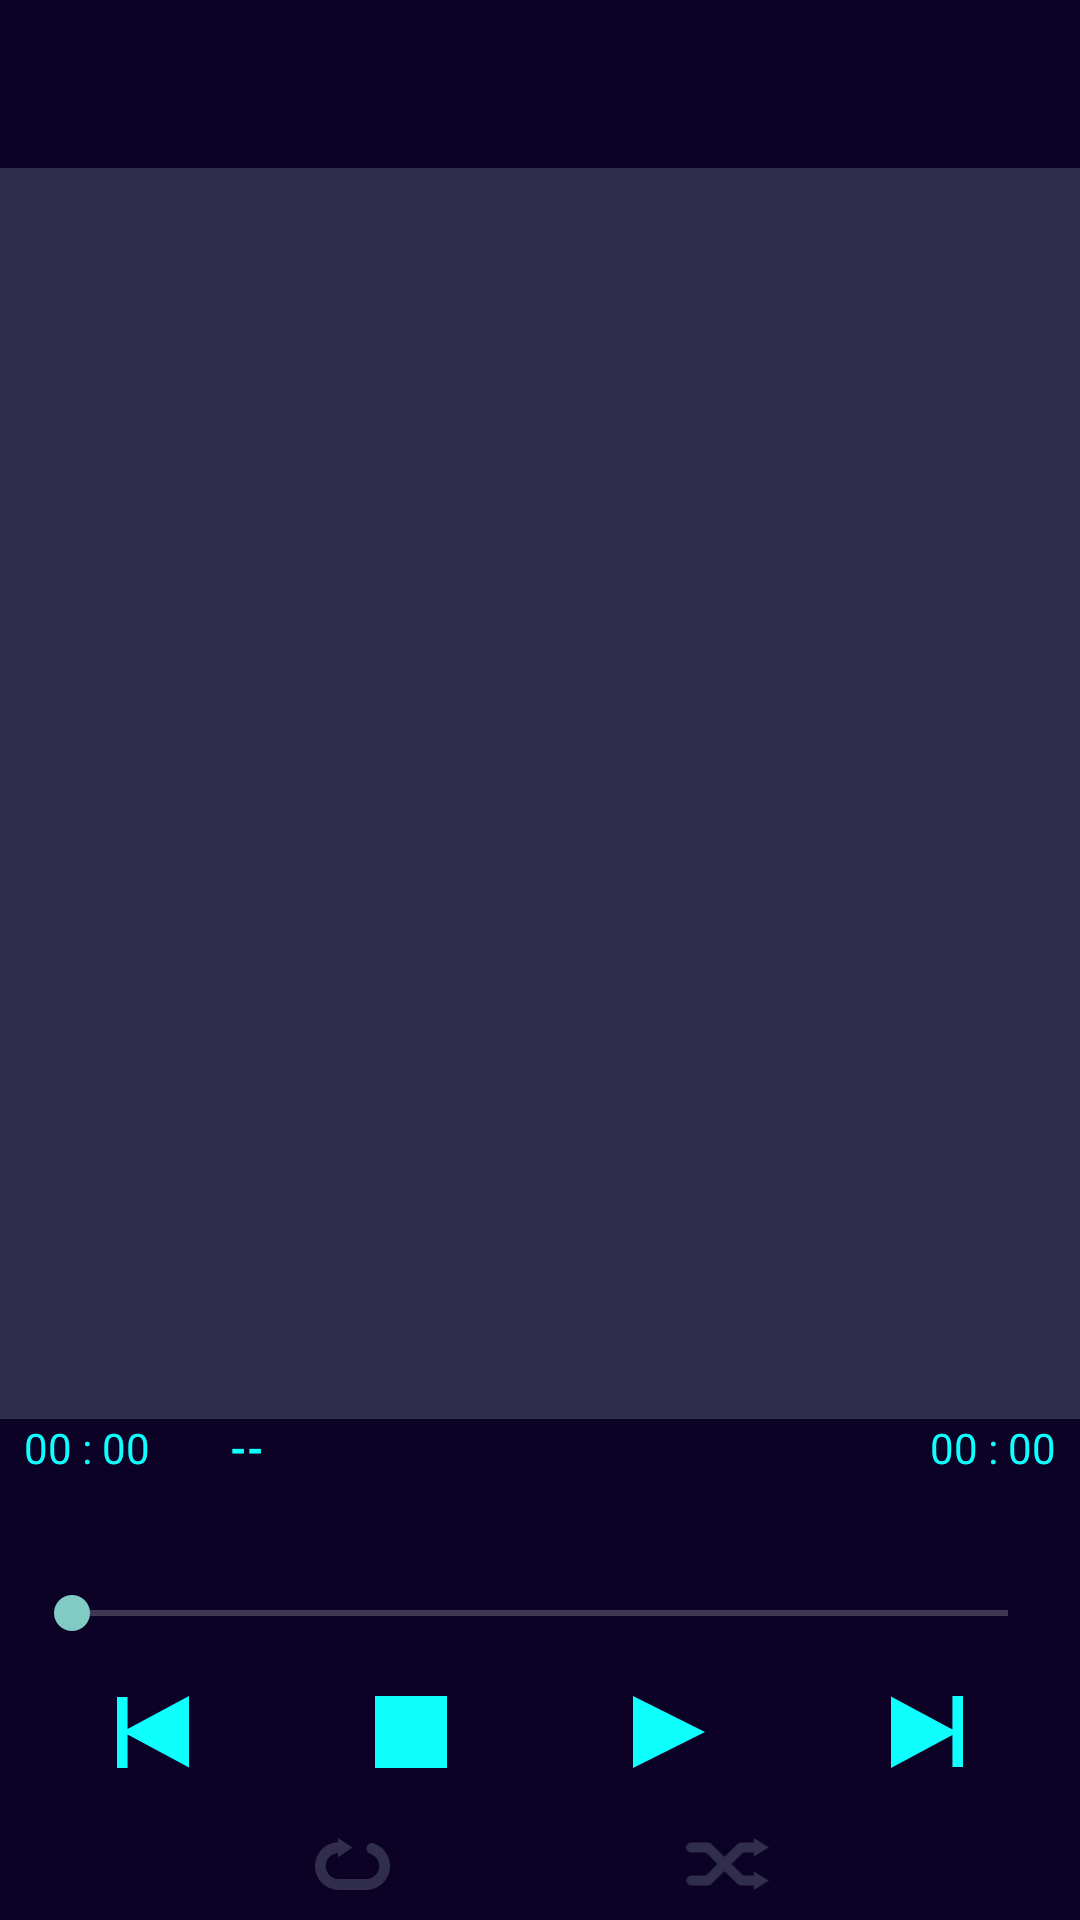

Named icons in this screenshot (1080px x 1920px) and their centers, [x,y]:
next: [927,1732]
play: [669,1732]
repeat off: [352,1864]
shuffle off: [727,1864]
